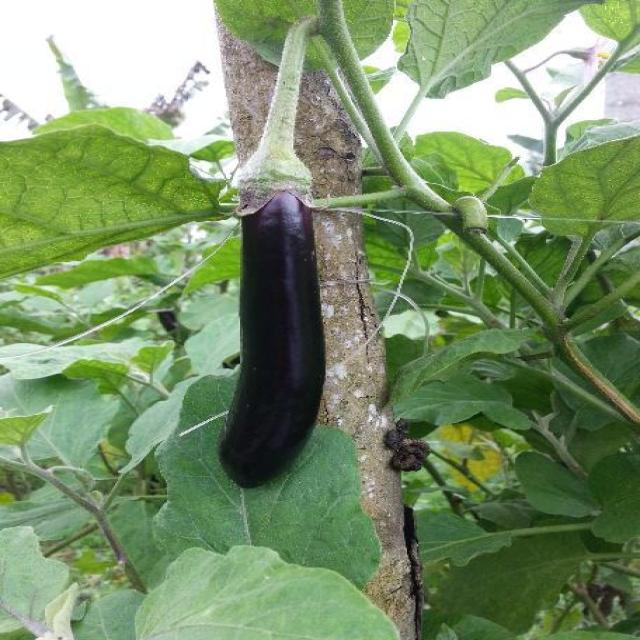eggplant: (218, 133, 335, 488)
